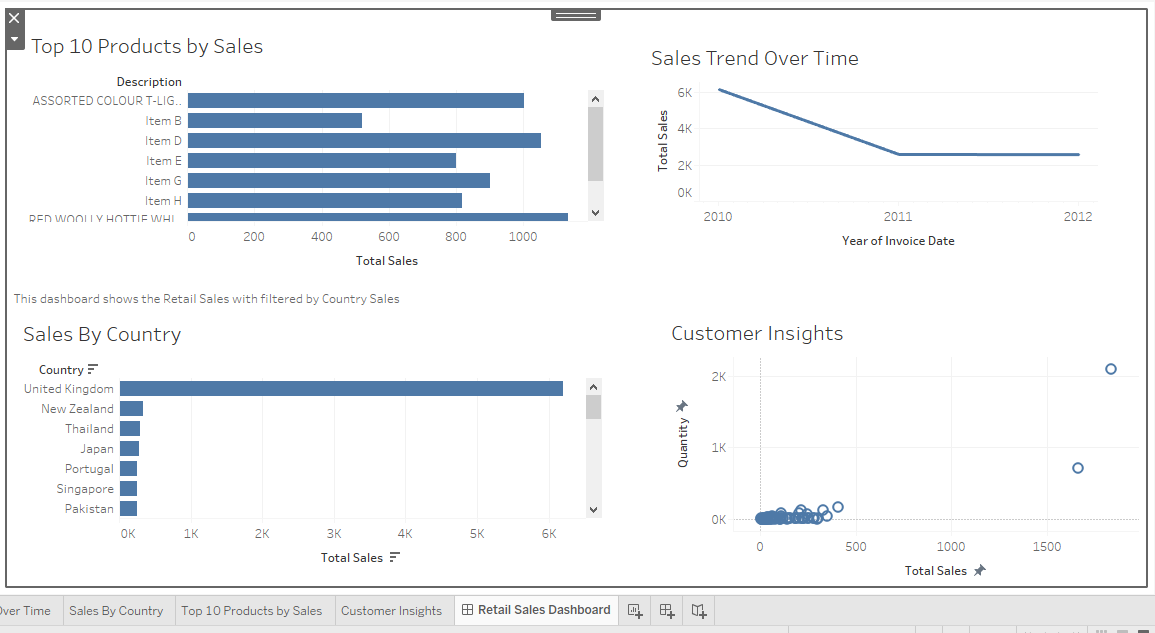

Layout of this report page (visuals, bound fields, positions):
{"tool":"tableau","page":{"name":"Retail Sales Dashboard","canvas":[1000,1000],"units":"permille","ordinal":0},"visuals":[{"type":"text","box":[6.9,13.5,986.1,973]},{"type":"worksheet","title":"Top 10 Products by Sales","mark":"Automatic","rows":["Description"],"cols":["Calculation_405042508360015872"],"box":[24.2,42.2,499.6,420.6]},{"type":"worksheet","title":"Sales Trend Over Time","mark":"Automatic","rows":["Calculation_405042508360015872"],"cols":["InvoiceDate"],"box":[561,62.5,390.5,366.6]},{"type":"worksheet","title":"Customer Insights","mark":"Automatic","rows":["Quantity"],"cols":["Calculation_405042508360015872"],"box":[578.4,527,408.7,459.5]},{"type":"worksheet","title":"Sales By Country","mark":"Automatic","rows":["Country"],"cols":["Calculation_405042508360015872"],"box":[17.3,528.7,504.8,435.8]}]}

Visuals, with their boxes on the dashboard's canvas, which has no fixed pixel size, in thousandths of its width and height (x1, y1, x2, y2). These are canvas units, not pixel positions in the 1155x633 screenshot, which may show the page scaled, cropped or inside an application window:
text: x1=7, y1=14, x2=993, y2=986
"Top 10 Products by Sales" worksheet: x1=24, y1=42, x2=524, y2=463
"Sales Trend Over Time" worksheet: x1=561, y1=62, x2=952, y2=429
"Customer Insights" worksheet: x1=578, y1=527, x2=987, y2=986
"Sales By Country" worksheet: x1=17, y1=529, x2=522, y2=964
